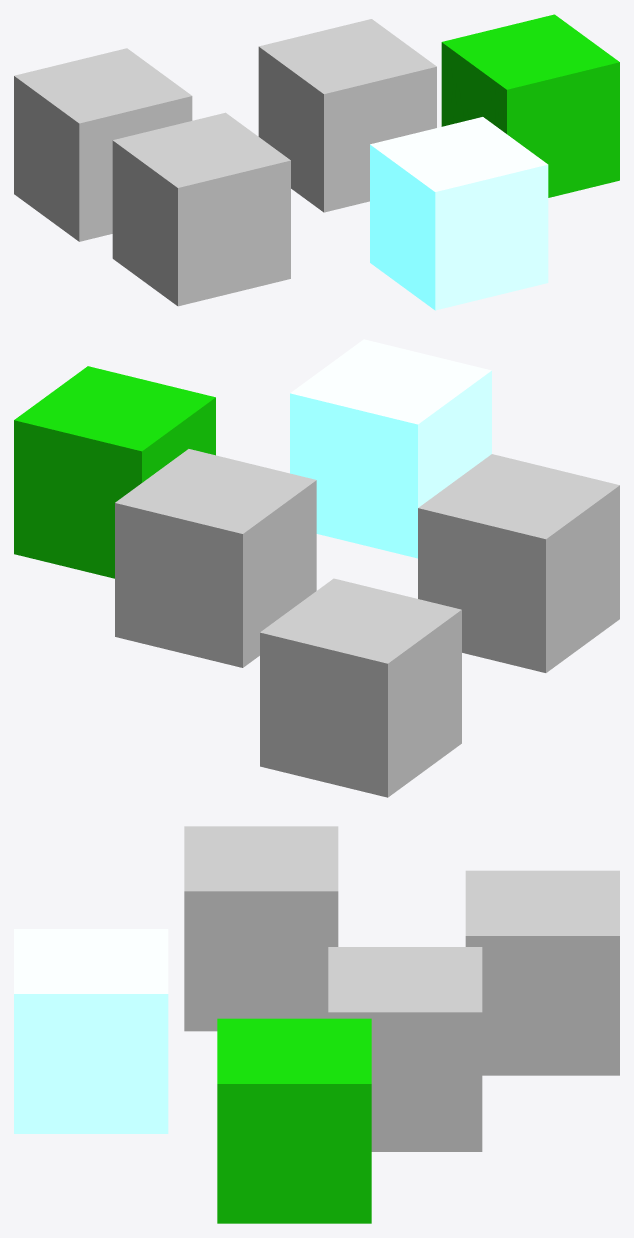
The model's file is TestSceneGLFF01.glb.
3 renders of one model, top to bottom at view 1: azimuth 30°, elevation 25°; view 2: azimuth 150°, elevation 25°; view 3: azimuth 270°, elevation 25°, orthographic. The views are drawn at different scales.
Parts seen in each view (by area): view 1: Cube.003, Cube, Cube.002, Cube.001, Cube.004; view 2: Cube.004, Cube.002, Cube.003, Cube, Cube.001; view 3: Cube.001, Cube, Cube.004, Cube.003, Cube.002.
Boxes of the visible parts, x1,y1,x2,y2 form: Cube.003: [112, 112, 290, 306]; Cube: [370, 117, 548, 310]; Cube.002: [258, 19, 436, 212]; Cube.001: [441, 14, 619, 197]; Cube.004: [14, 48, 192, 241]; Cube.004: [260, 578, 461, 797]; Cube.002: [115, 449, 316, 667]; Cube.003: [418, 454, 619, 672]; Cube: [290, 339, 491, 558]; Cube.001: [14, 366, 215, 578]; Cube.001: [217, 1018, 371, 1223]; Cube: [14, 929, 168, 1133]; Cube.004: [465, 870, 619, 1075]; Cube.003: [184, 826, 338, 1031]; Cube.002: [328, 947, 482, 1151].
Size of the model in its own units: 8.06 by 2.54 by 7.86.
